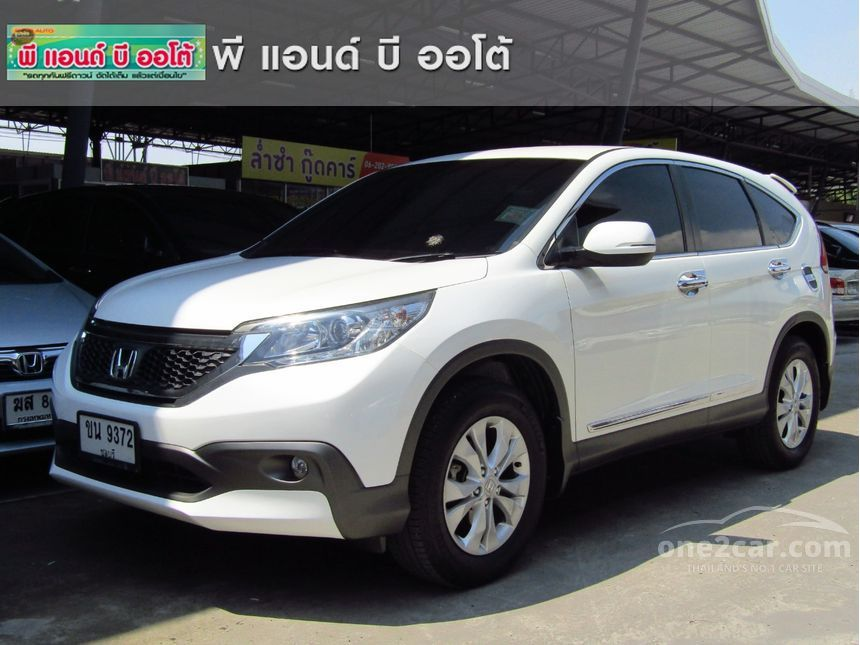pickup: (47, 142, 838, 587)
